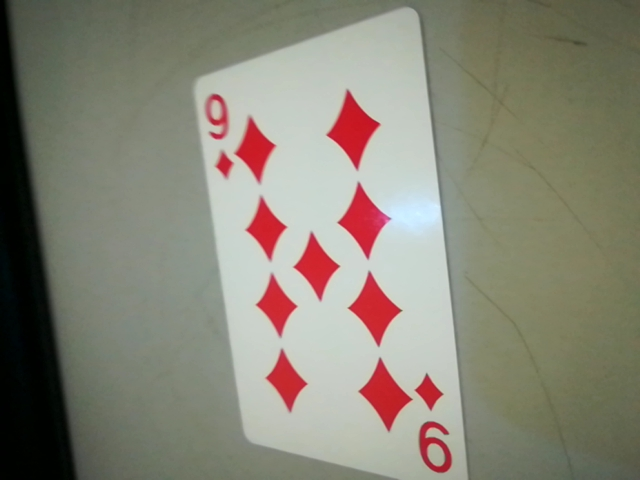fk 9: (404, 365, 463, 480)
